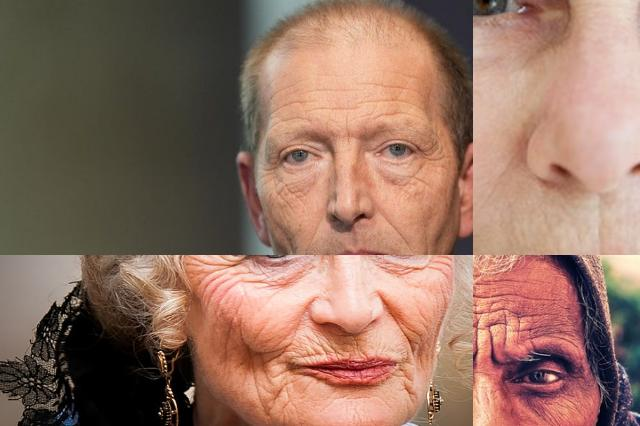crows_feet: (202, 255, 245, 288), (260, 156, 286, 186), (415, 142, 447, 164), (430, 255, 450, 277)
forehead: (363, 76, 421, 114), (272, 80, 308, 125), (525, 312, 555, 344), (491, 288, 517, 322), (526, 287, 552, 306), (473, 283, 483, 316)
frown_line: (473, 333, 499, 364), (326, 123, 360, 144)
gummy_smile: (379, 296, 413, 344), (378, 210, 406, 242), (304, 218, 328, 245), (292, 304, 310, 338)
masseter: (245, 333, 281, 363), (221, 312, 237, 360), (406, 176, 432, 202), (274, 192, 300, 213), (416, 322, 430, 358), (280, 234, 297, 255)
sad_smile: (396, 362, 414, 400), (273, 369, 287, 402)
smoker_lines: (320, 336, 368, 360)
